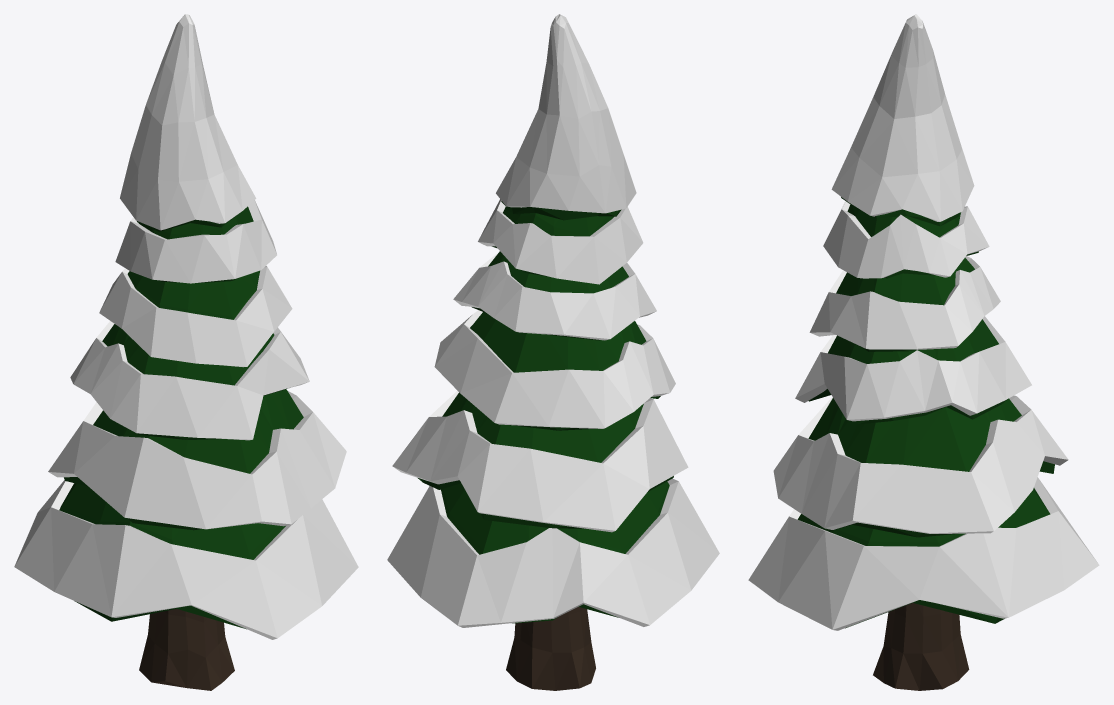
The model's file is pine_tree_2_snow.glb.
3 views of the same model, side by side, from view 1: azimuth 30°, elevation 25°; view 2: azimuth 150°, elevation 25°; view 3: azimuth 270°, elevation 25° (orthographic).
Parts seen in each view (by area): view 1: pine_tree_2_snow_snow, pine_tree_2_snow; view 2: pine_tree_2_snow_snow, pine_tree_2_snow; view 3: pine_tree_2_snow_snow, pine_tree_2_snow.
Part boxes in pixels (x1,y1,x2,y2): pine_tree_2_snow_snow: (14, 14, 358, 639); pine_tree_2_snow: (59, 206, 303, 690); pine_tree_2_snow_snow: (387, 14, 719, 627); pine_tree_2_snow: (418, 201, 673, 690); pine_tree_2_snow_snow: (748, 14, 1099, 630); pine_tree_2_snow: (797, 197, 1054, 690).
Size of the model in its own units: 2.34 by 5.63 by 2.71.
